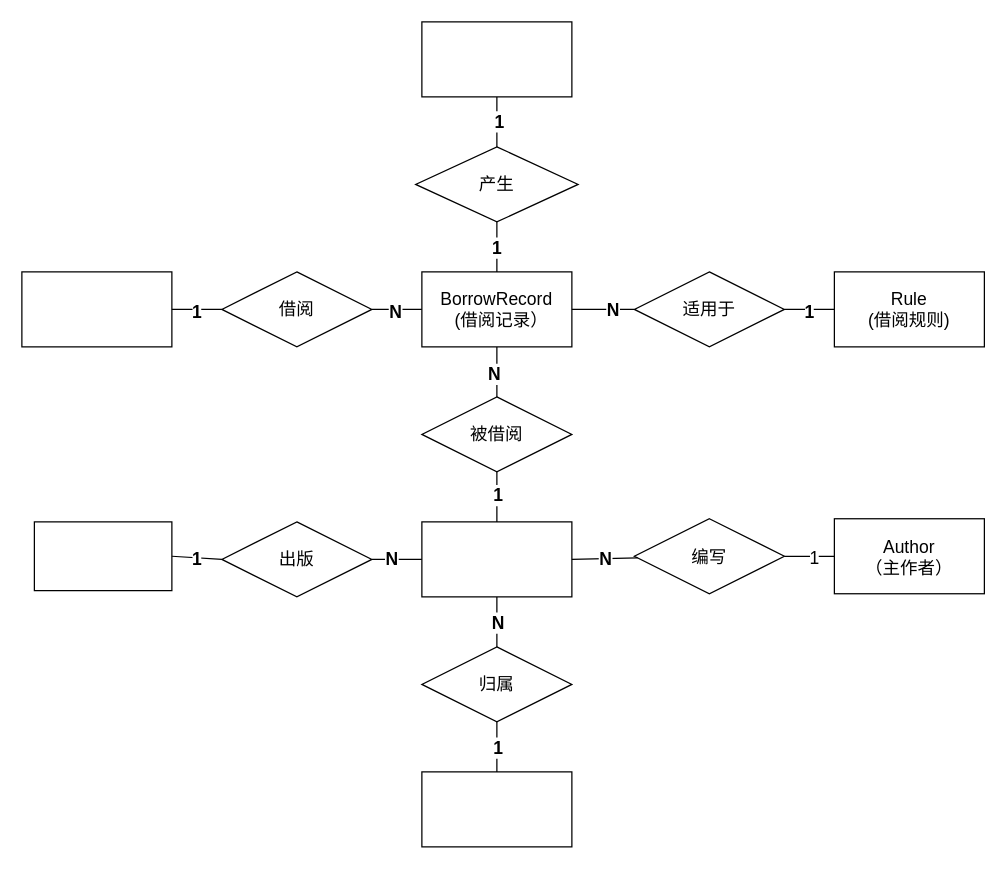
The diagram is 1006 pixels wide and 869 high, and some of its shapes have lost their labels. The centre of each missing label's shape, as x and y in pixels:
"Book (书）" belongs at [496,559].
"Category" belongs at [496,809].
"Fine (罚款记录)" belongs at [496,59].
"Publisher （出版社）" belongs at [102,556].
"Reader (读者)" belongs at [96,309].
